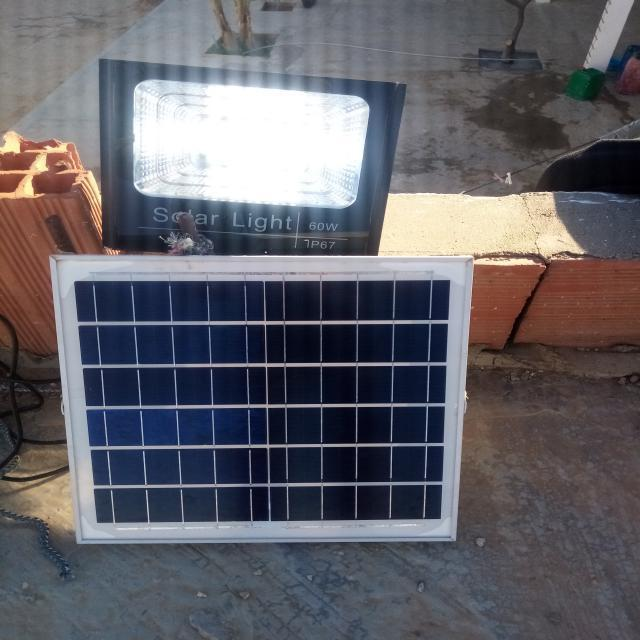Normal Solar Panel: (55, 255, 472, 543)
